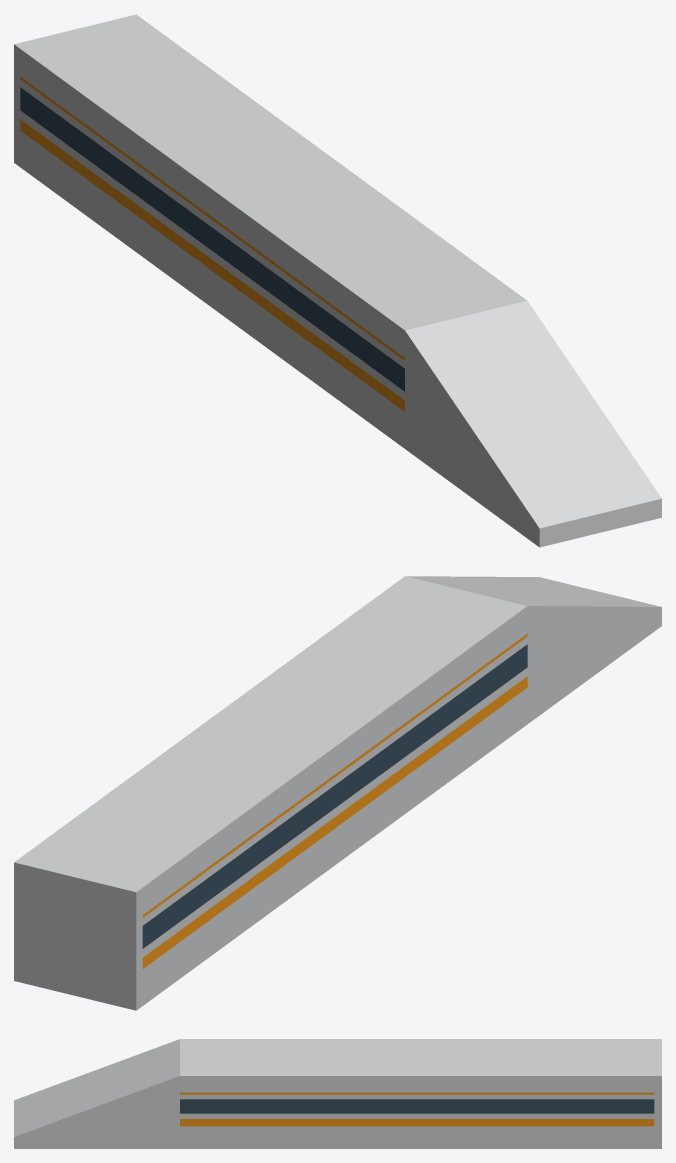
File: 384_far.fbx
3 renders of one model, top to bottom at view 1: azimuth 30°, elevation 25°; view 2: azimuth 150°, elevation 25°; view 3: azimuth 270°, elevation 25°, orthographic. The views are drawn at different scales.
Parts seen in each view (by area): view 1: 384_far; view 2: 384_far; view 3: 384_far.
Boxes of the visible parts, x1,y1,x2,y2 form: 384_far: (14,14,661,547); 384_far: (14,576,661,1010); 384_far: (14,1039,661,1148).
Bounding box in the file's own units: 3.37 × 3.11 × 25.
